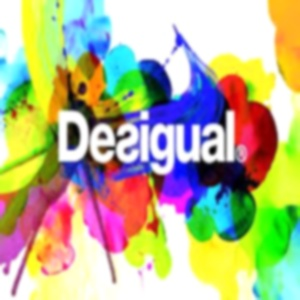desigual: (226, 51, 279, 152)
